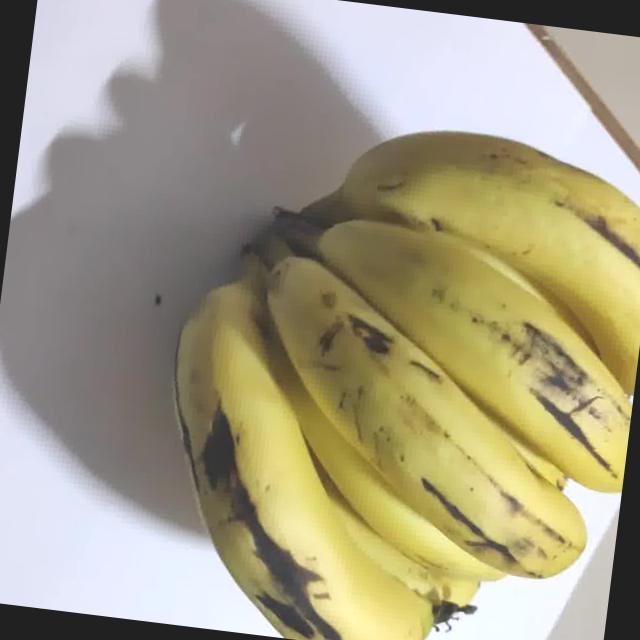apple: (56, 10, 640, 640)
